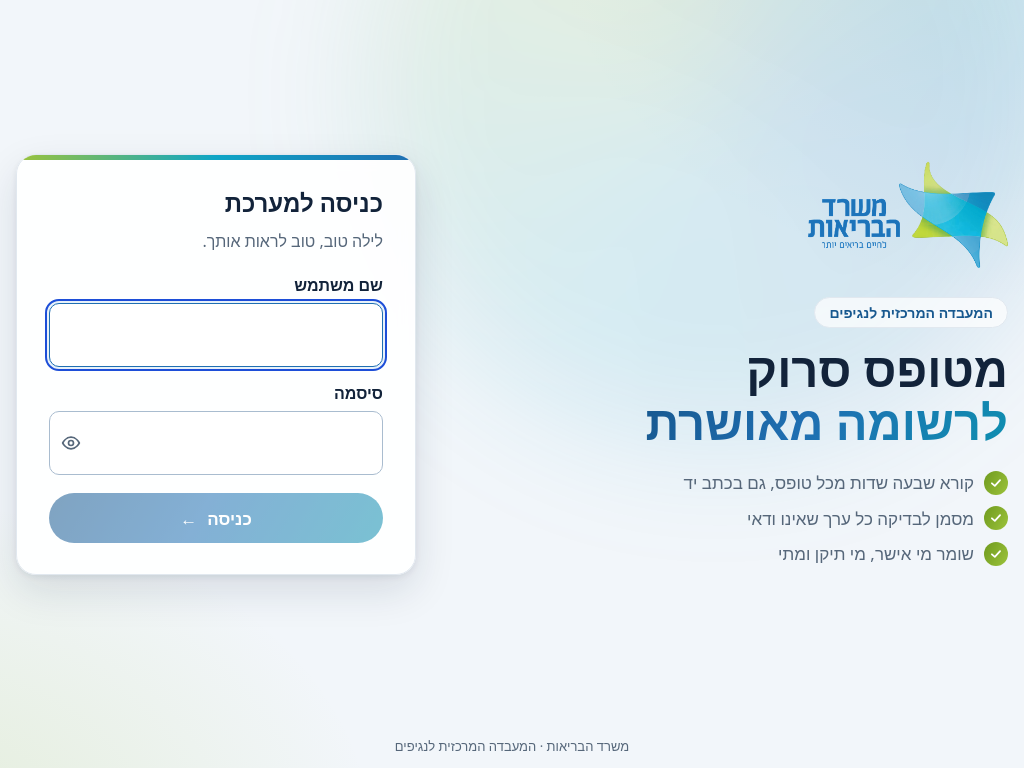
Test: LoginPage › a locked account says when to try again
The width and height of the screenshot is (1024, 768).
In the field labelled "שם משתמש": (216, 335) [49,303,383,367], type "dana"
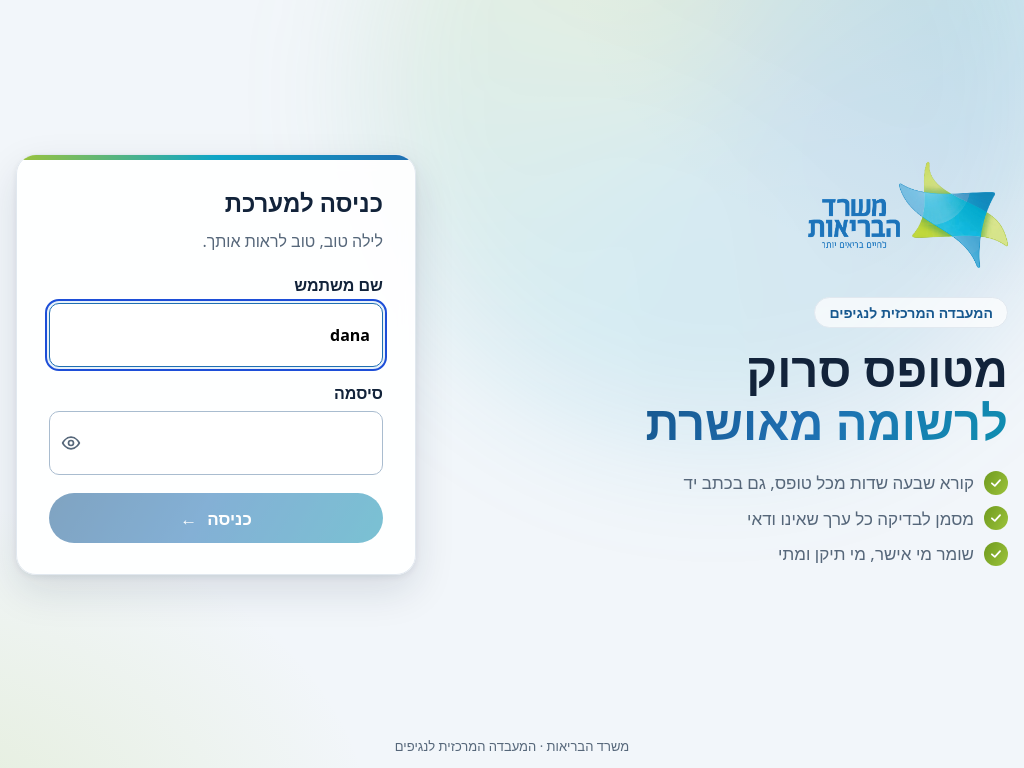
In the password field labelled "סיסמה": (216, 443) [49,411,383,475], type "correct horse battery"
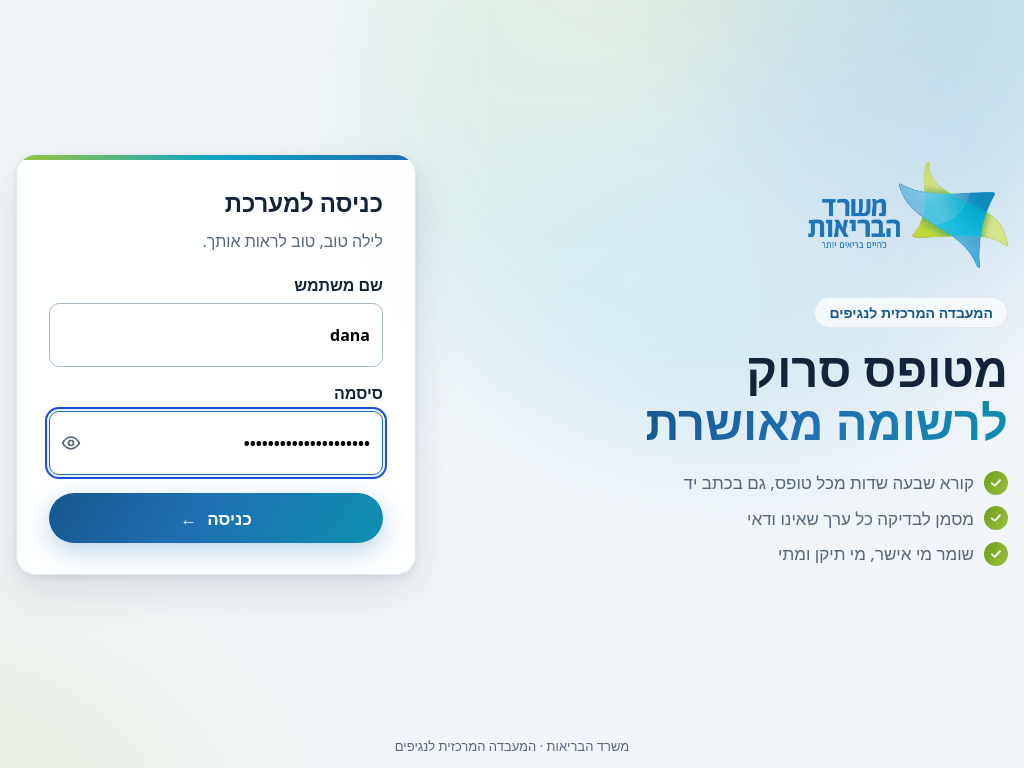
Click the button "כניסה ←": (216, 518) [49,493,383,543]
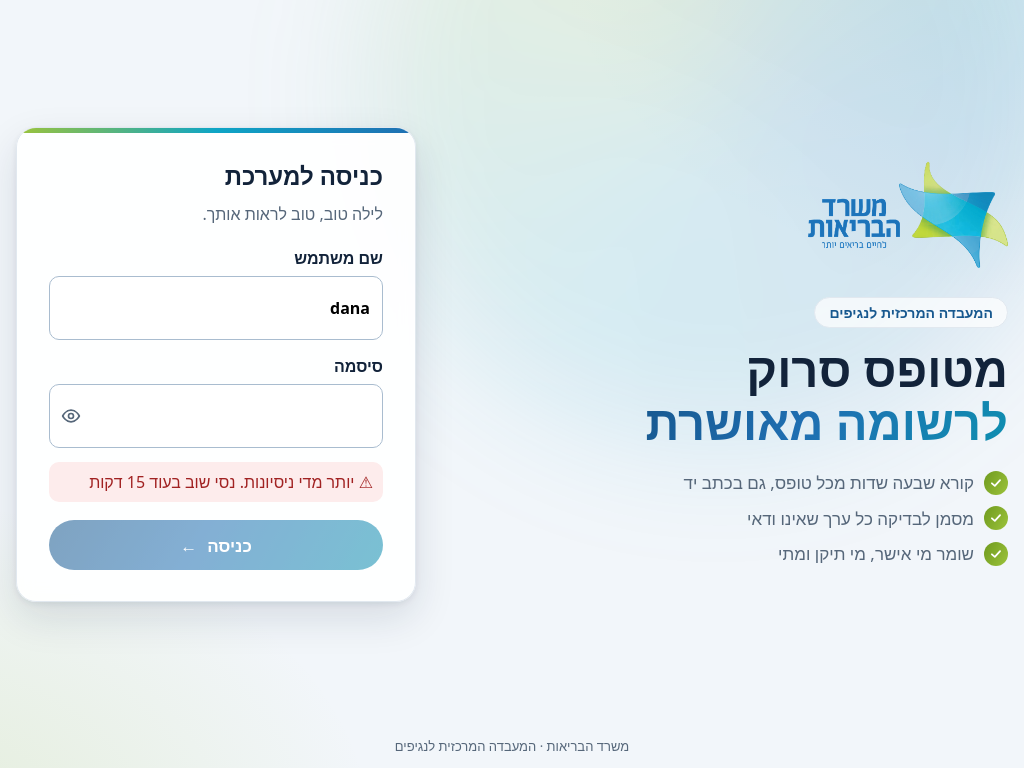
Expected: the message shows "נסי שוב בעוד 15 דקות", [89,471,354,493]
